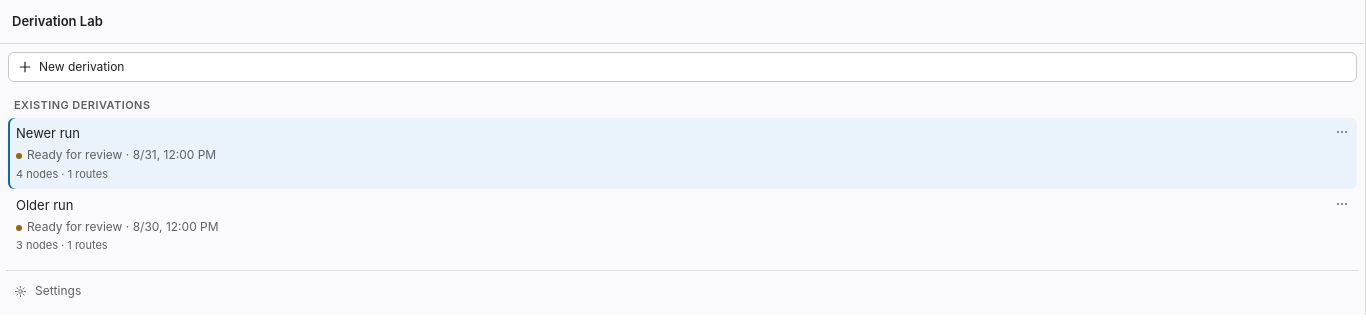
Test: RunSidebar object actions › switches the theme from the same Settings menu and remembers the choice
Step 1. Click the button "Settings" → (58,291), box [6,277,1359,307]
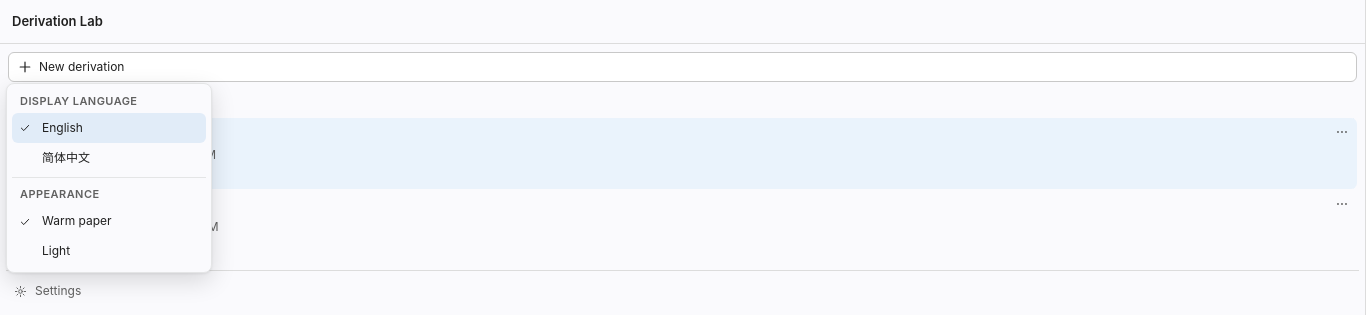
Result: the text "Appearance" is shown at [20,188,100,202]
Step 2. Click the menu item "Light" → (109,252), box [12,237,206,267]
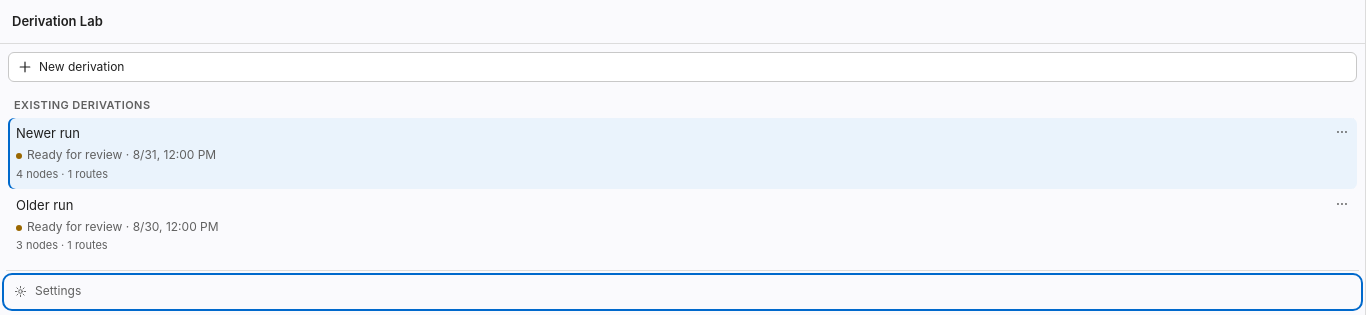
Step 3. Click the button "Settings" → (58,291), box [6,277,1359,307]
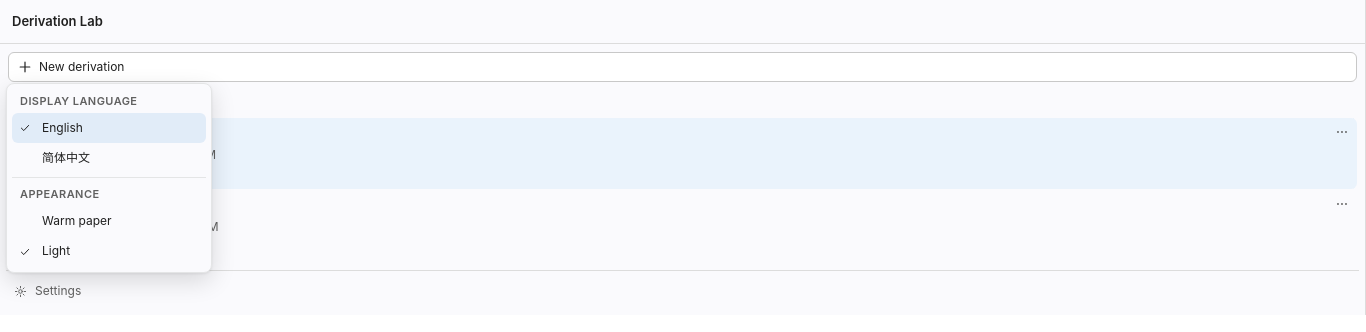
Result: the 1st element with class "context-menu-check" is shown at [17,120,33,136]
Result: the 4th element with class "context-menu-check" is shown at [17,244,33,260]
